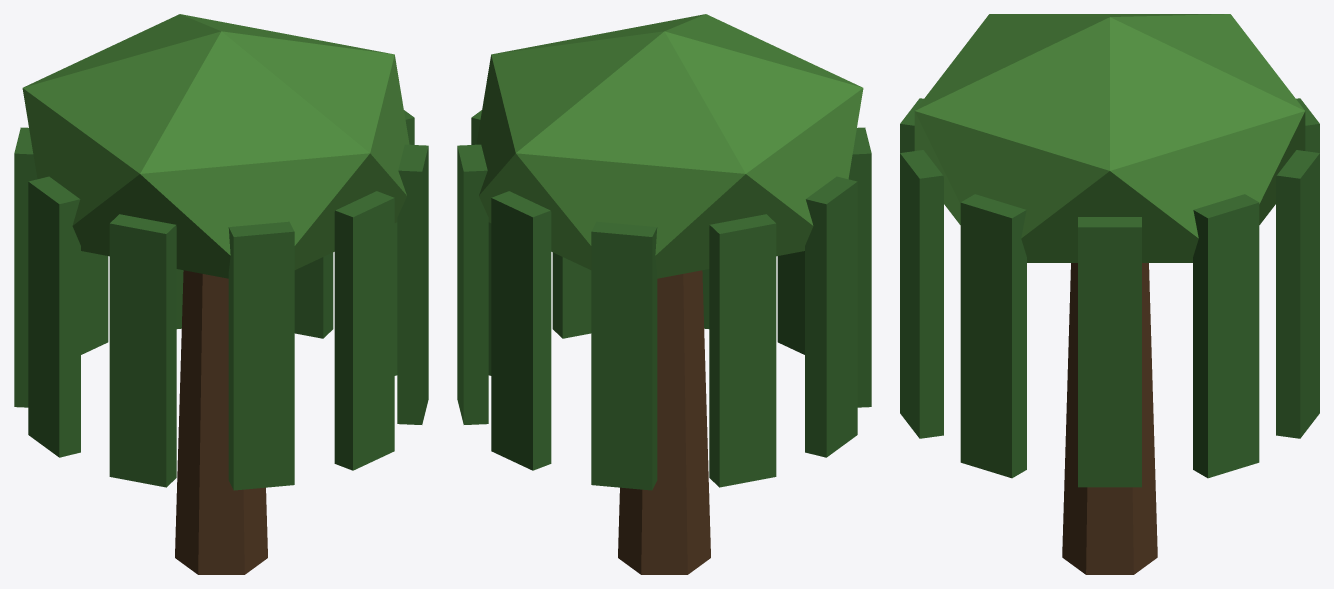
Rendered from willow_lo.glb.
The picture shows the model from 3 angles, left to right: view 1: azimuth 30°, elevation 25°; view 2: azimuth 150°, elevation 25°; view 3: azimuth 270°, elevation 25°; orthographic projection. The views are drawn at different scales.
Visible parts, largest first — view 1: tree; view 2: tree; view 3: tree.
Boxes of the visible parts, <box> form: tree: <box>14,14,428,574</box>; tree: <box>457,14,871,574</box>; tree: <box>900,14,1319,574</box>.
Size of the model in its own units: 1.32 by 1.87 by 1.32.
